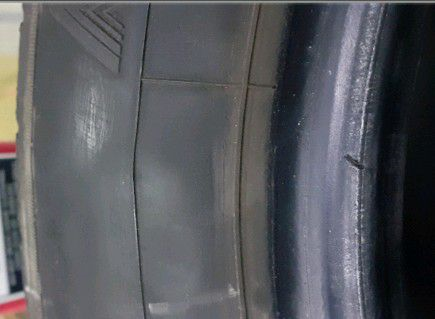CBU: (95, 160, 207, 295)
